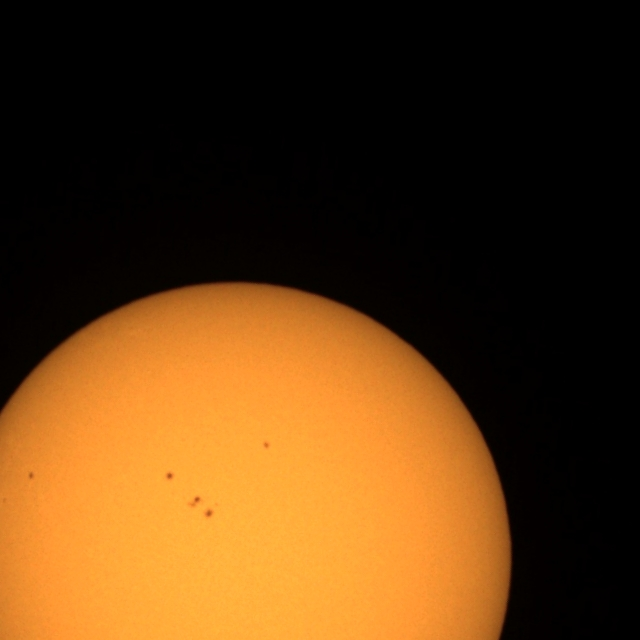sunspot: (187, 495, 216, 520), (187, 495, 202, 510), (203, 507, 215, 520), (165, 470, 175, 482), (262, 440, 271, 450), (27, 470, 35, 481), (1, 496, 8, 505)
